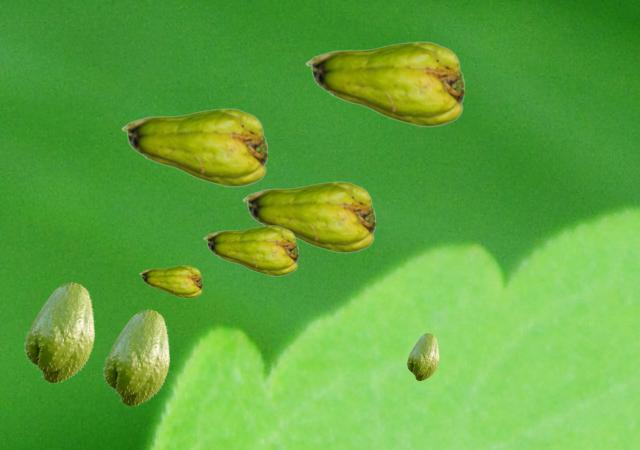sayote: (305, 41, 463, 126), (121, 108, 266, 186), (242, 181, 374, 252), (23, 282, 94, 383), (102, 309, 169, 406), (203, 225, 297, 275), (139, 265, 201, 297), (406, 333, 438, 380)
